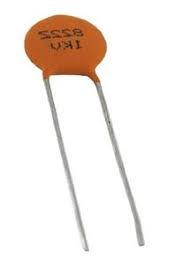ceramic capacitor: (16, 6, 128, 109)
